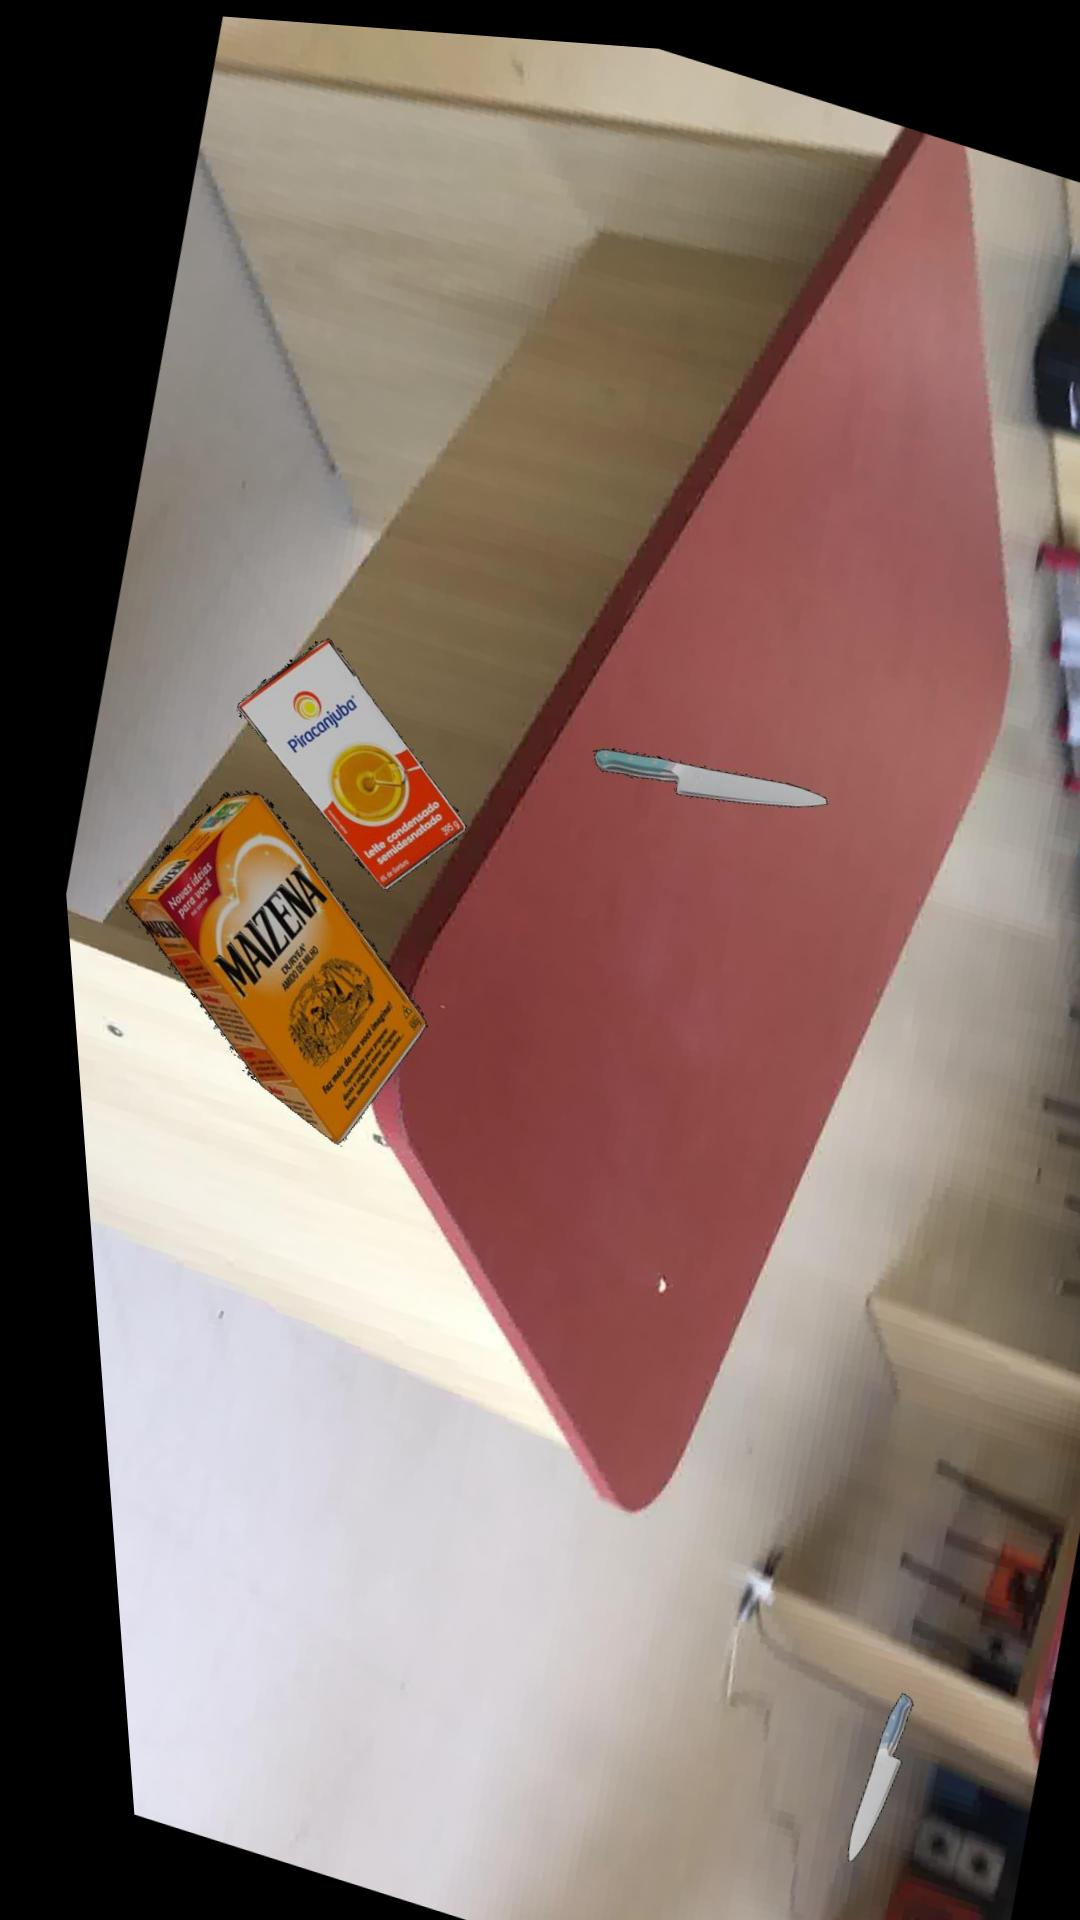knife: (582, 740, 814, 796), (818, 1683, 885, 1851)
